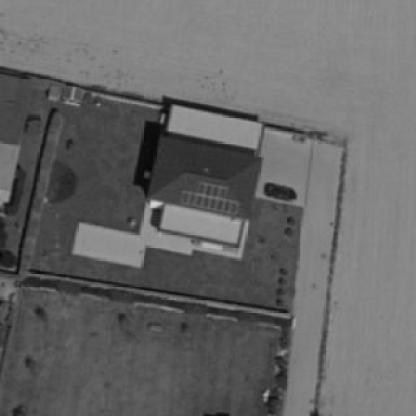solar-pv-panel: (180, 183, 240, 215)
